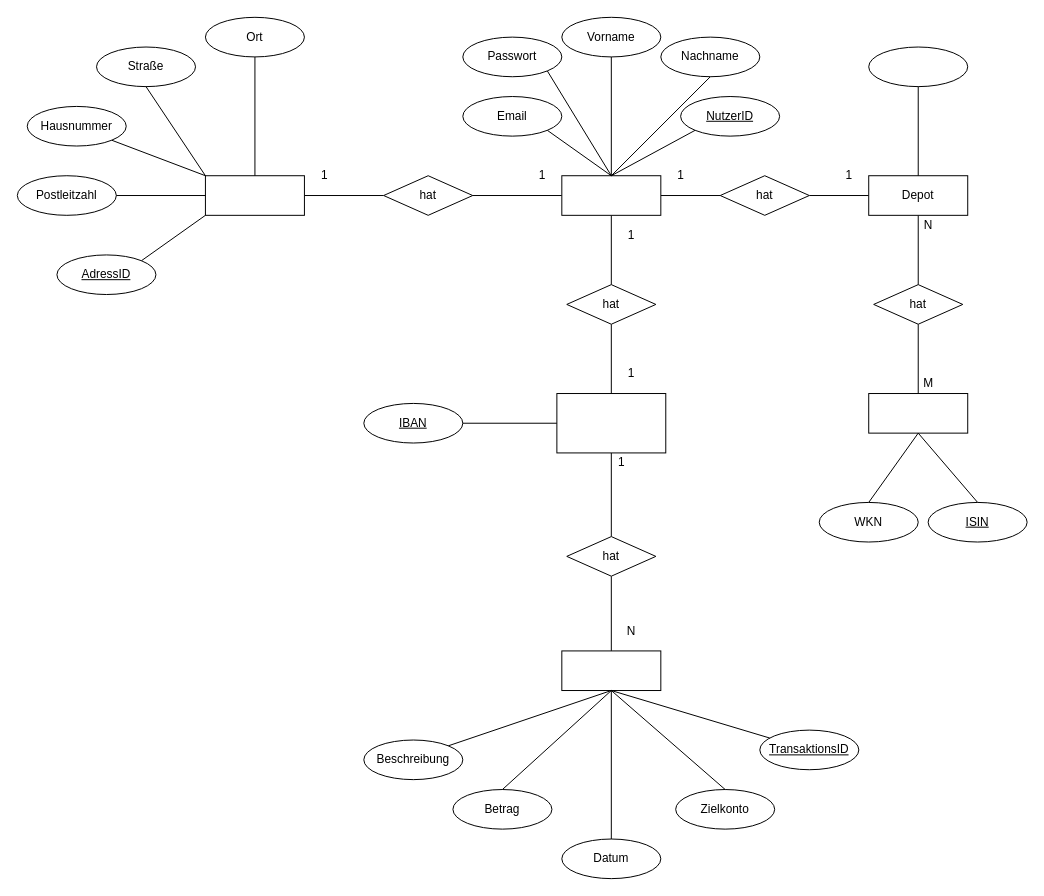
This 1044x896 diagram has some shape labels left out. Each missing label, with the centre of its shape:
Adresse: the point at 254,195
Depotnummer: the point at 918,66
Nutzer: the point at 611,195
Transaktion: the point at 611,670
Verrechnungskonto: the point at 611,423
Wertpapier: the point at 918,413
